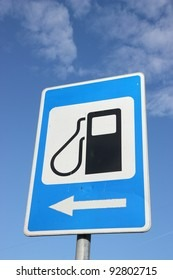fuel-station: (46, 105, 136, 179)
left turn: (48, 195, 128, 214)
